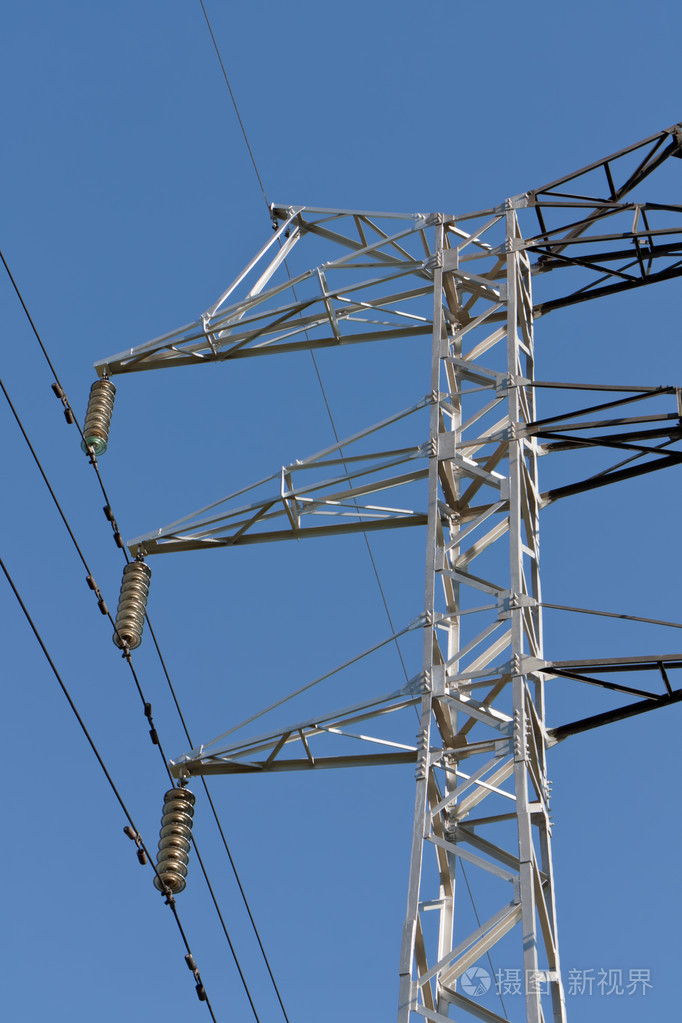insulator: (153, 787, 197, 897), (113, 560, 150, 649), (81, 379, 117, 453)
